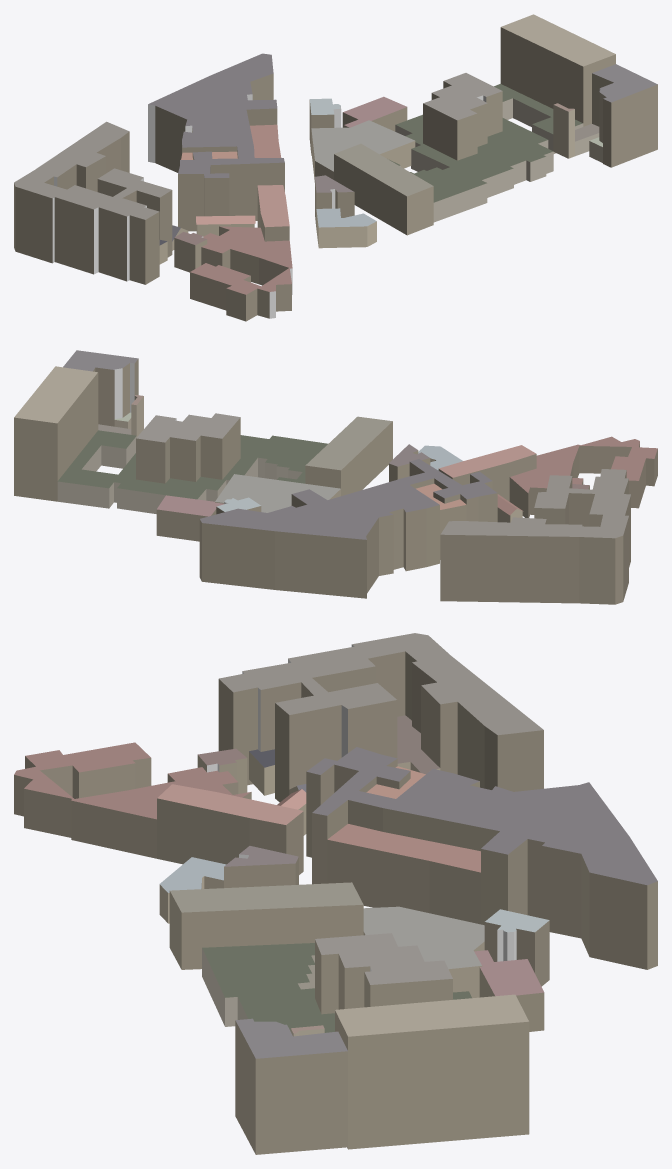
3 views of the same model, one above another, from view 1: azimuth 30°, elevation 25°; view 2: azimuth 150°, elevation 25°; view 3: azimuth 270°, elevation 25° (orthographic). The views are drawn at different scales.
Visible parts, largest first — view 1: tuile; view 2: tuile; view 3: tuile.
Boxes of the visible parts, x1,y1,x2,y2 form: tuile: (14, 14, 657, 321); tuile: (14, 350, 657, 604); tuile: (14, 633, 657, 1154).
Bounding box in the file's own units: 244 × 30.73 × 157.
